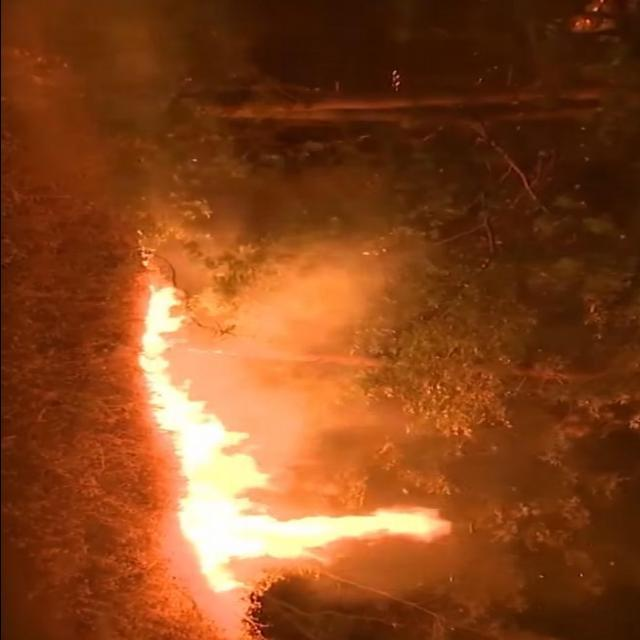Fire: (119, 284, 458, 598)
